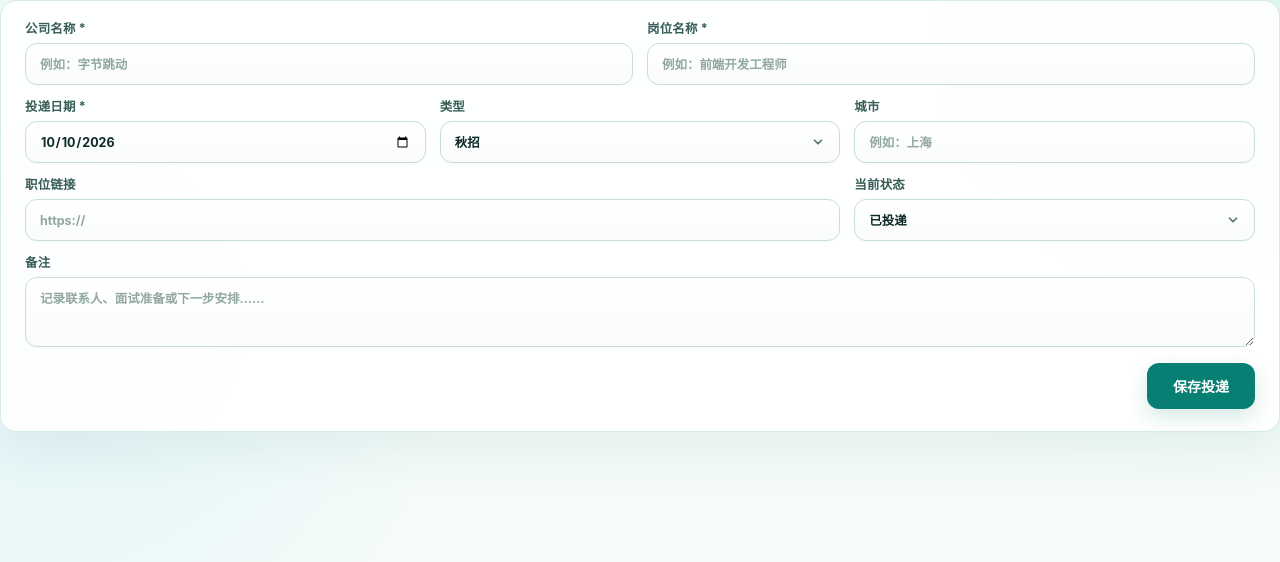
it: 投递表单 › 服务端失败后保留输入并显示反馈
Expected: the dropdown labelled "类型" shows "秋招", left=440, top=121, right=840, bottom=163
In the field labelled "公司名称 *": coordinates (329, 64) left=25, top=43, right=633, bottom=85, type "保留公司"
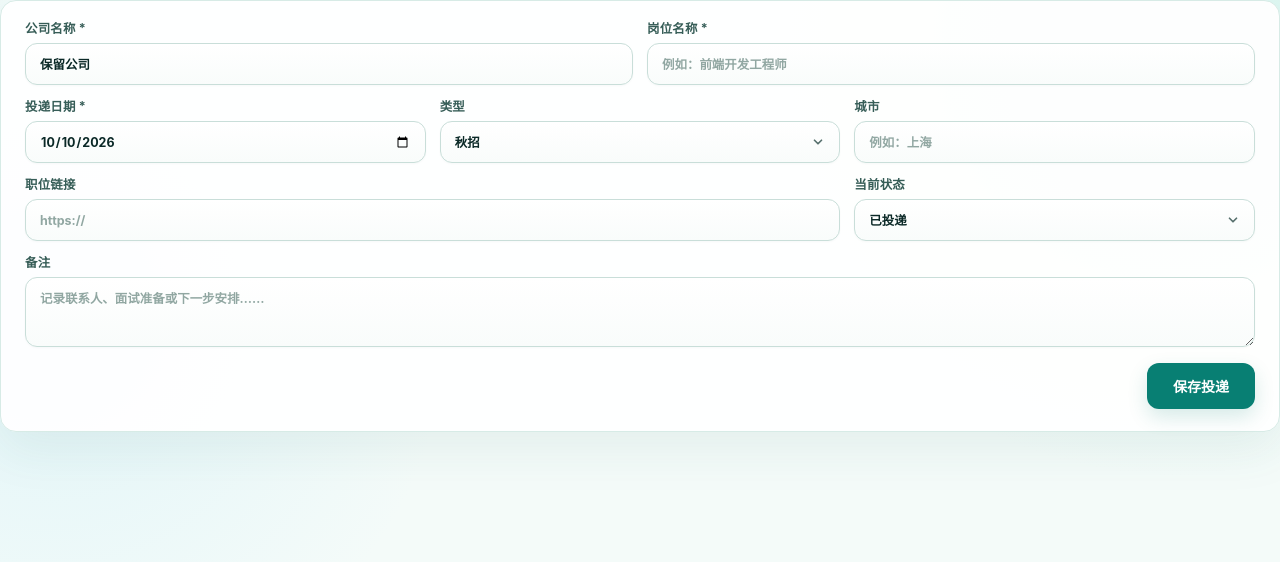
In the field labelled "岗位名称 *": coordinates (951, 64) left=647, top=43, right=1255, bottom=85, type "开发"
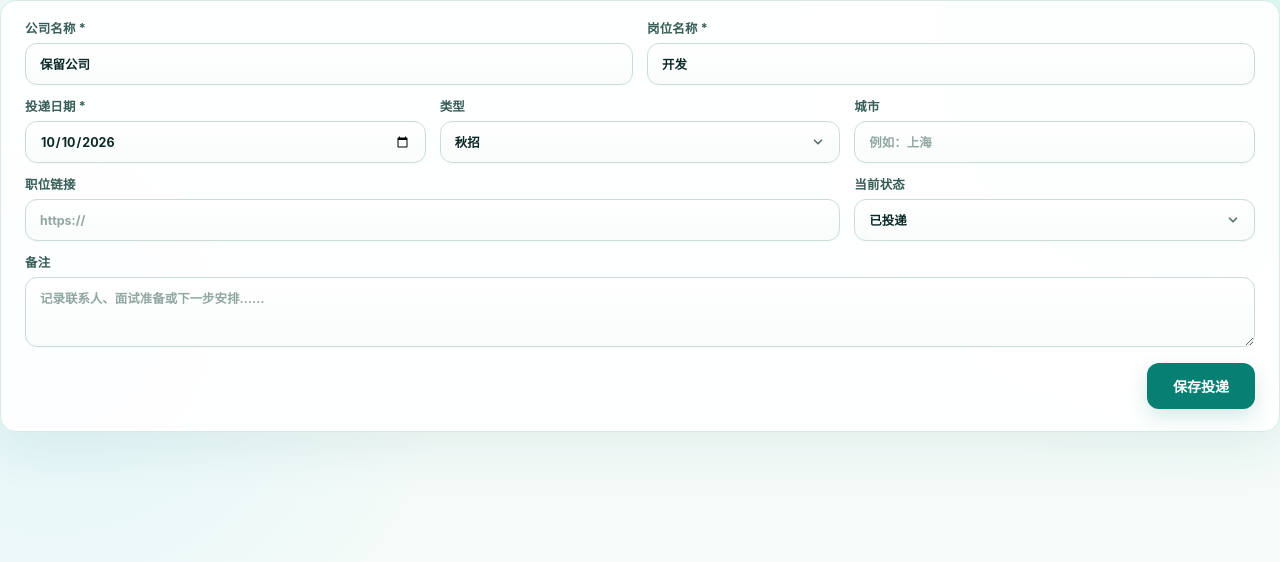
In the date field labelled "投递日期 *": coordinates (225, 142) left=25, top=121, right=426, bottom=163, type "2026-08-13"
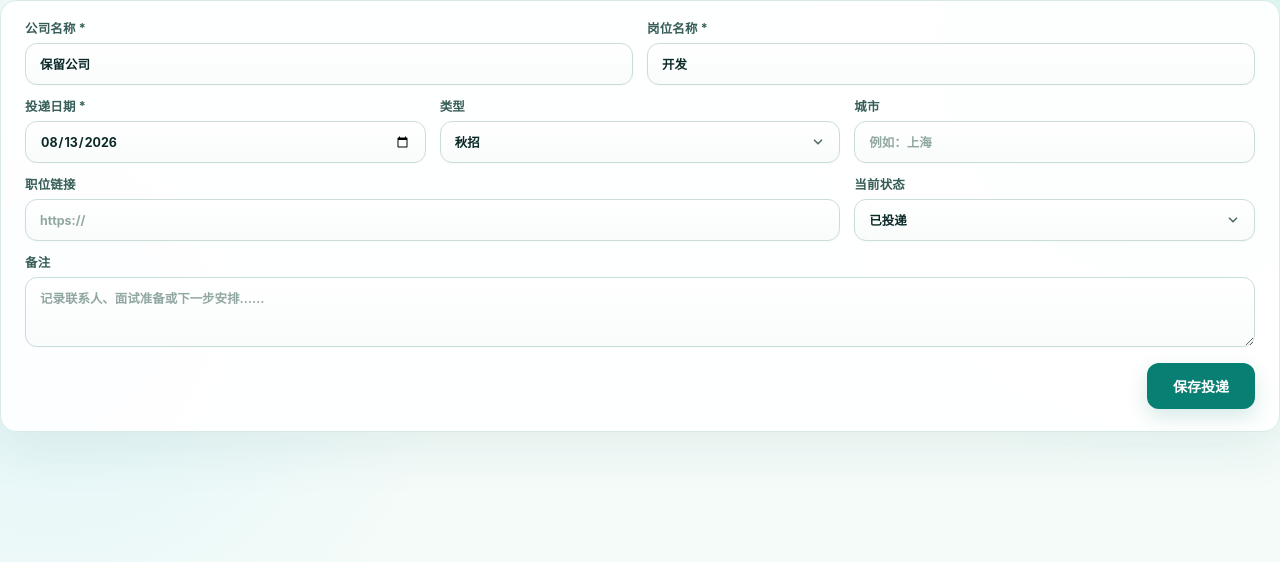
Click the button "保存投递": coordinates (1201, 386) left=1147, top=363, right=1255, bottom=409
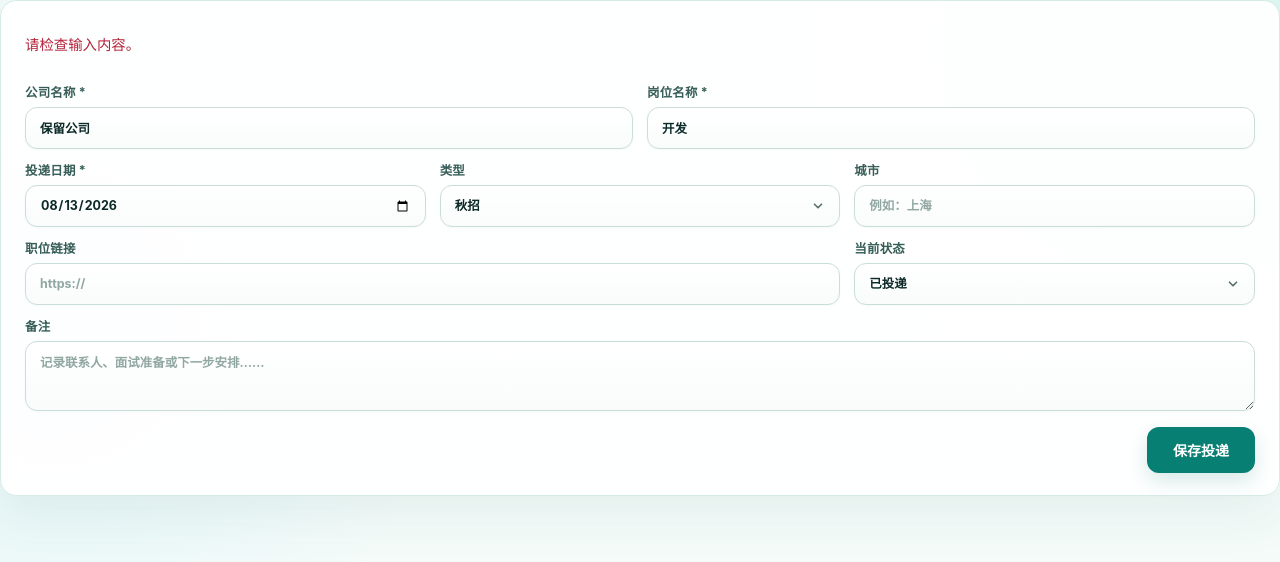
Expected: the message shows "请检查输入内容", left=25, top=36, right=140, bottom=53
